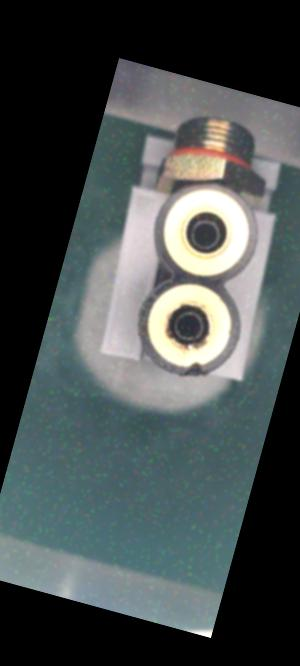bump: (179, 353, 214, 387)
